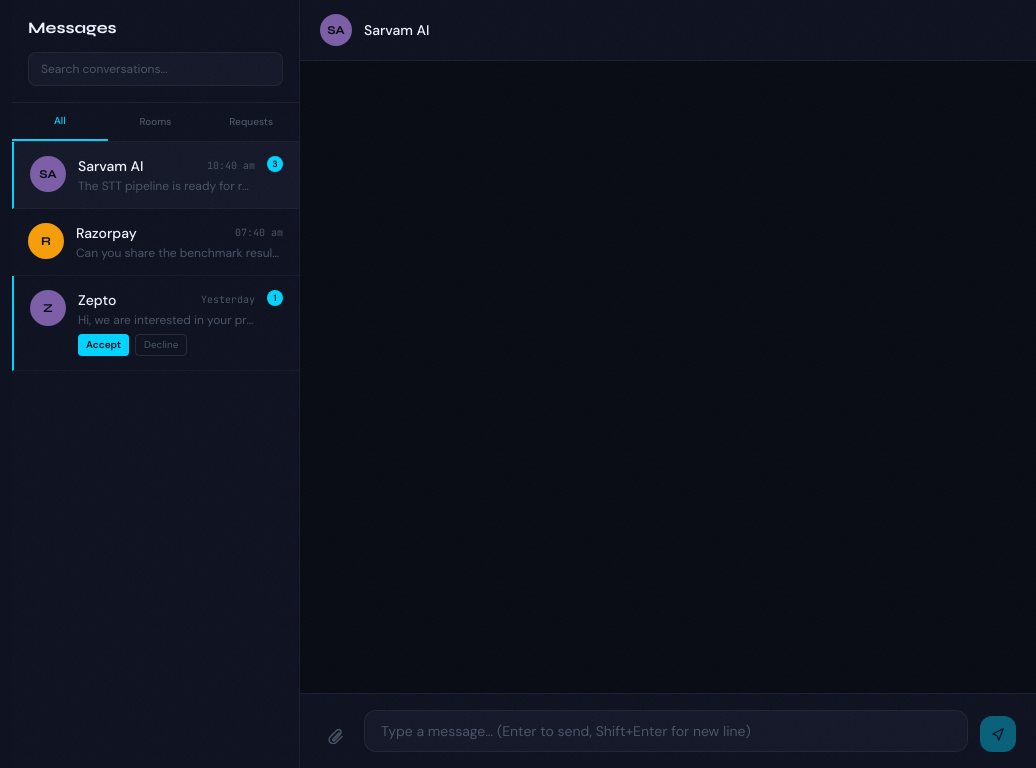
Scenario: MessagesPage — message request accept/decline › declining request removes Accept/Decline buttons without page reload
Click the button with test id "decline-request-conv-3" at (161, 345), box x1=135 y1=334 x2=187 y2=356
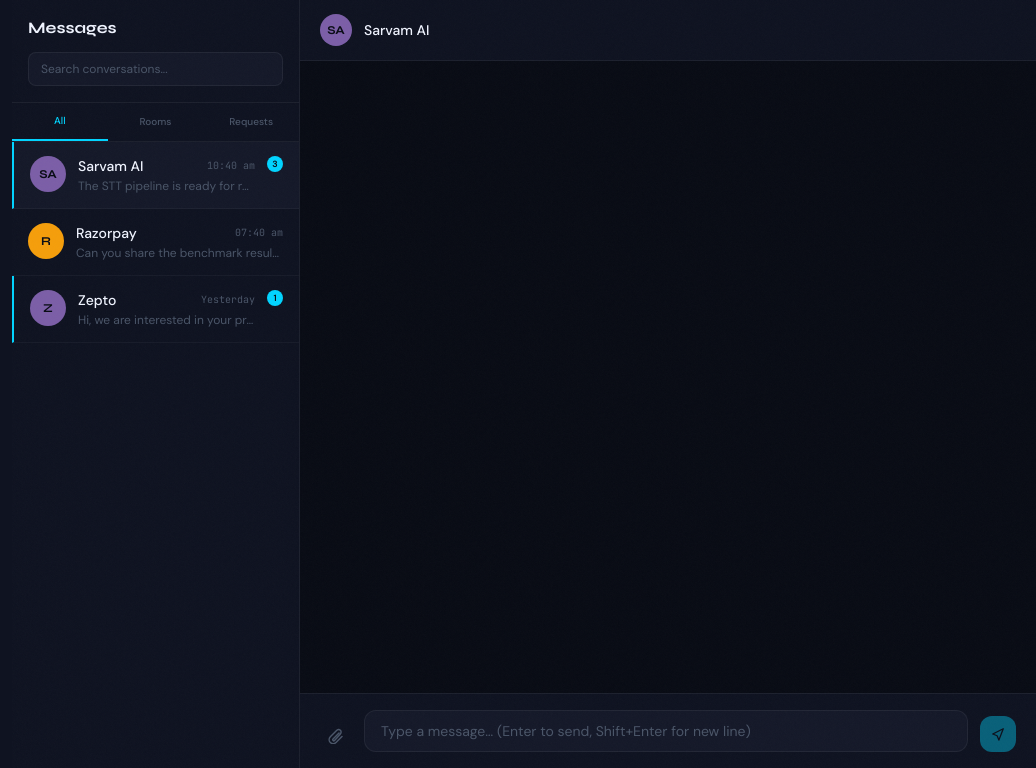
Expected: the button with test id "accept-request-conv-3" is gone
Expected: the button with test id "decline-request-conv-3" is gone
